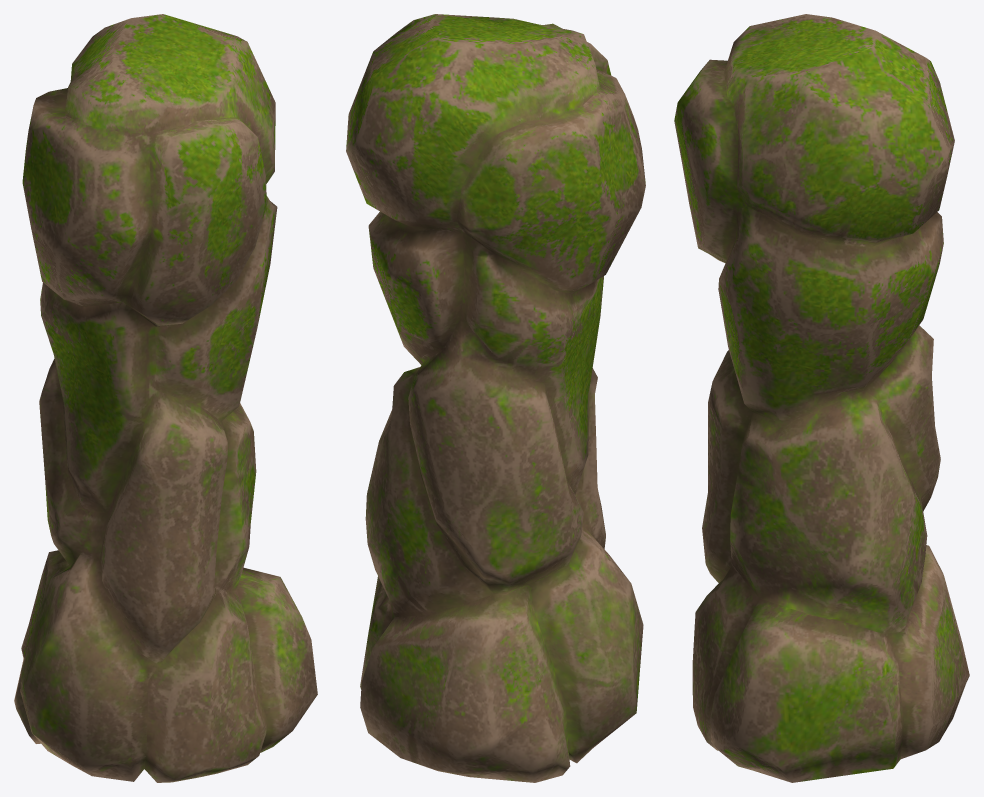
File: sb_obj_nature007_Rock03e.fbx
The picture shows the model from 3 angles, left to right: view 1: azimuth 30°, elevation 25°; view 2: azimuth 150°, elevation 25°; view 3: azimuth 270°, elevation 25°; orthographic projection.
Visible parts, largest first — view 1: sb_obj_nature007_Rock03e; view 2: sb_obj_nature007_Rock03e; view 3: sb_obj_nature007_Rock03e.
Part boxes in pixels (x1,y1,x2,y2): sb_obj_nature007_Rock03e: (14,14,317,782); sb_obj_nature007_Rock03e: (346,14,645,782); sb_obj_nature007_Rock03e: (674,14,969,782).
Size of the model in its own units: 1.34 by 3.45 by 1.31.
